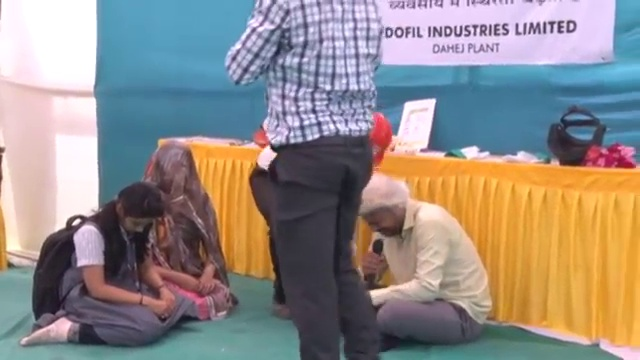helmet: (366, 110, 394, 167)
helmet_off: (354, 171, 415, 236), (150, 142, 199, 206), (109, 183, 164, 237)
person: (229, 1, 393, 359), (24, 180, 185, 349), (355, 172, 492, 343), (136, 139, 231, 323)
